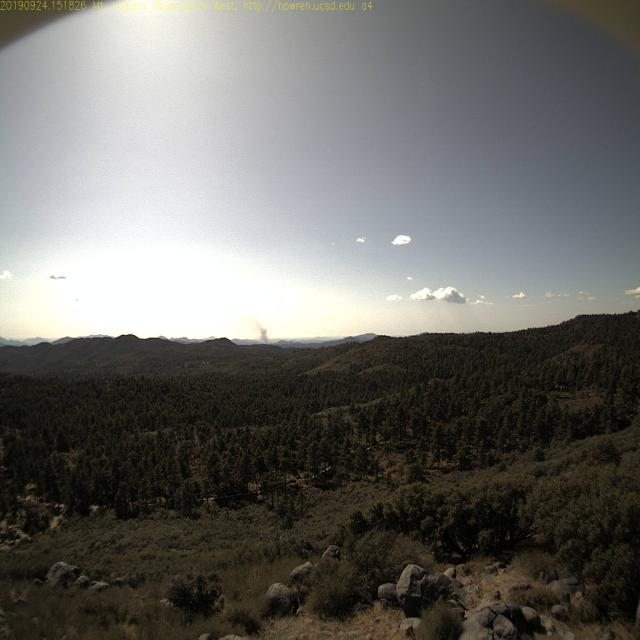smoke: (252, 318, 274, 348)
